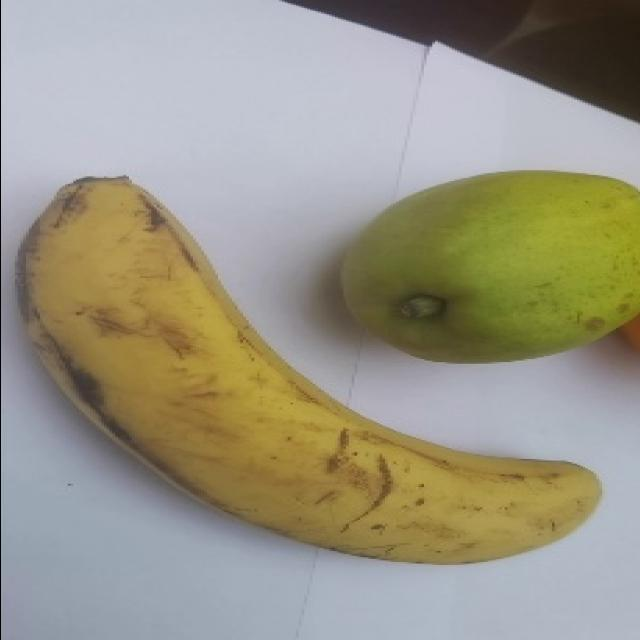Banana: (15, 173, 602, 565)
